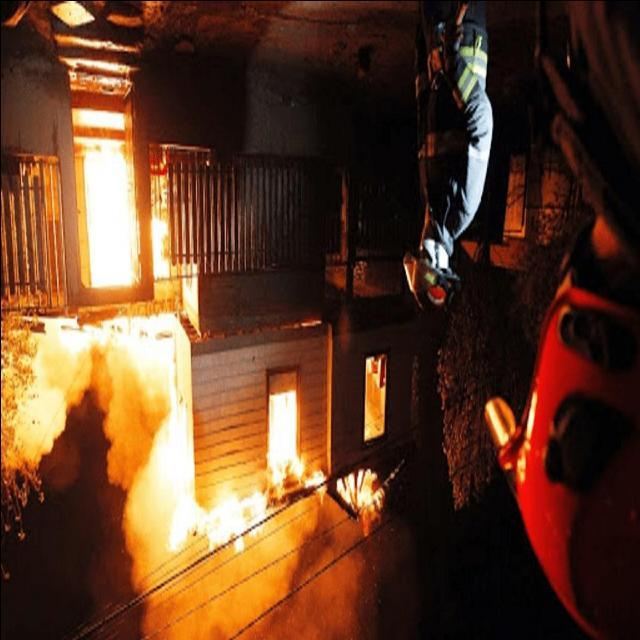Fire: (5, 314, 266, 571), (271, 391, 323, 513), (332, 468, 384, 533)
